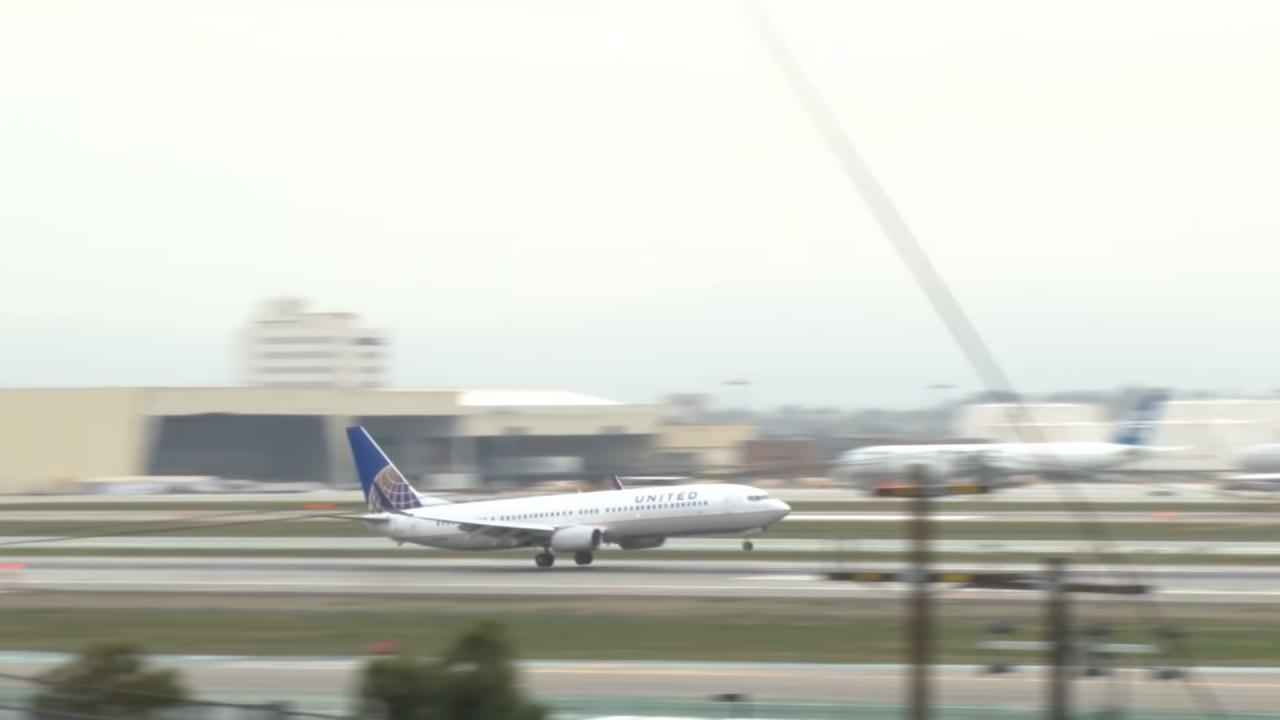Airplane: (285, 413, 806, 583)
